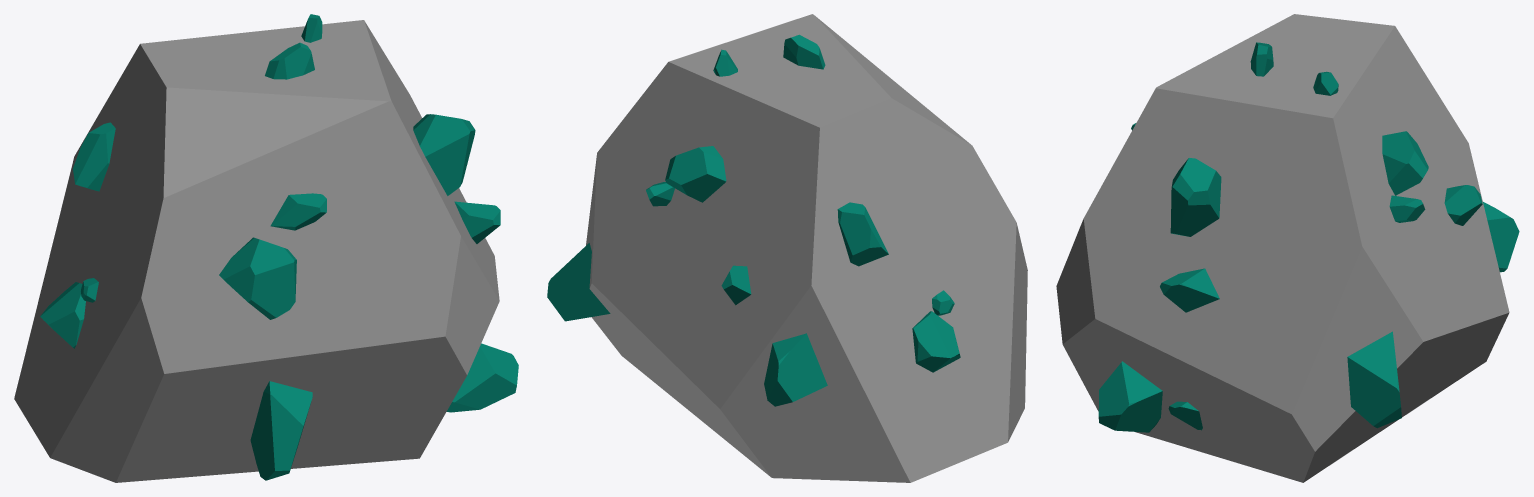
The model's file is copper opre.fbx.
The picture shows the model from 3 angles, left to right: view 1: azimuth 30°, elevation 25°; view 2: azimuth 150°, elevation 25°; view 3: azimuth 270°, elevation 25°; orthographic projection. The views are drawn at different scales.
Visible parts, largest first — view 1: Body, pSphere63, pCube78, pSphere66, pCube83, pSphere70, pSphere71, pCube80, pSphere64, pCube85; view 2: Body, pCube102, pCube79, pSphere69, pSphere71, pSphere70, pSphere64, pCube103, pSphere73; view 3: Body, pCube79, pCube83, pSphere66, pSphere69, pCube85, pCube102, pCube103, pSphere73, pSphere64, pCube81, pSphere68.
Part boxes in pixels (x1,y1,x2,y2): Body: (14,20,499,482); pSphere63: (219,237,296,319); pCube78: (250,381,312,480); pSphere66: (413,114,475,195); pCube83: (446,343,518,412); pSphere70: (73,122,115,191); pSphere71: (40,282,85,348); pCube80: (270,193,326,230); pSphere64: (265,42,314,79); pCube85: (454,201,500,243); Body: (586,14,1027,482); pCube102: (764,333,827,406); pCube79: (547,243,610,321); pSphere69: (665,146,726,202); pSphere71: (912,311,960,372); pSphere70: (837,202,888,266); pSphere64: (783,34,825,69); pCube103: (721,265,751,305); pSphere73: (646,182,674,206); Body: (1056,14,1509,482); pCube79: (1347,331,1401,428); pCube83: (1098,361,1162,432); pSphere66: (1170,158,1221,236); pSphere69: (1382,131,1428,195); pCube85: (1160,268,1219,312); pCube102: (1483,202,1519,272); pCube103: (1444,185,1482,225); pSphere73: (1389,195,1425,222); pSphere64: (1250,42,1273,76); pCube81: (1168,401,1202,430); pSphere68: (1313,71,1338,95).
Bounding box in the file's own units: 2.02 × 1.57 × 1.84.
